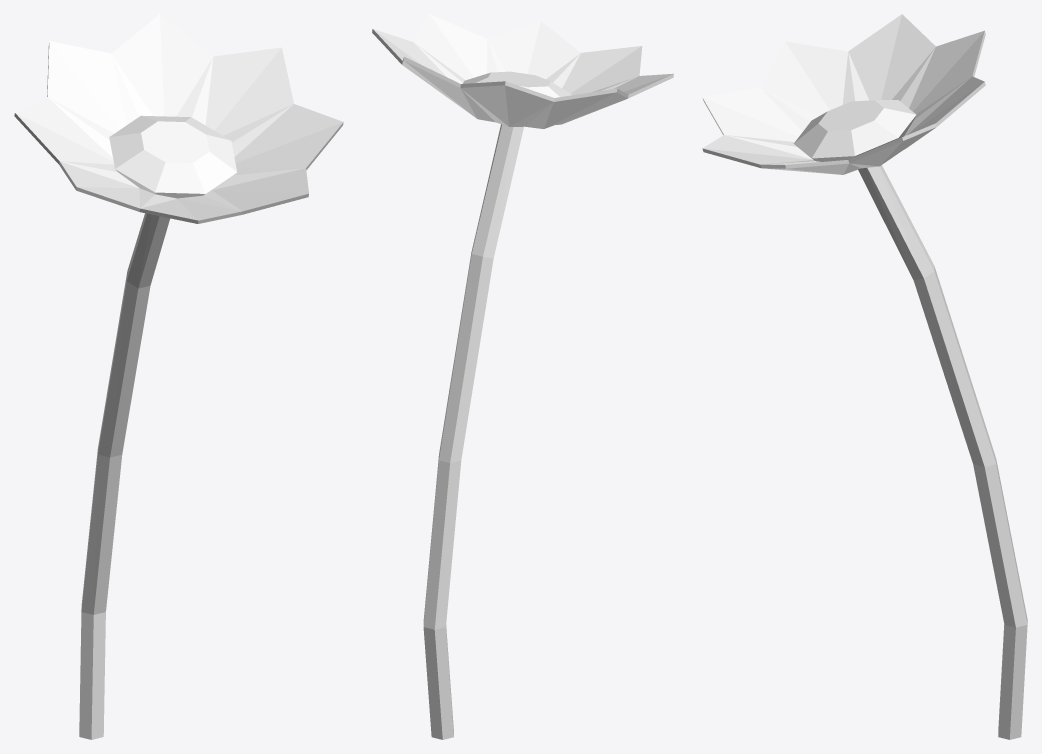
Rendered from Env_Flowers_05.glb.
The picture shows the model from 3 angles, left to right: view 1: azimuth 30°, elevation 25°; view 2: azimuth 150°, elevation 25°; view 3: azimuth 270°, elevation 25°; orthographic projection. The views are drawn at different scales.
Visible parts, largest first — view 1: Env_Flowers_05; view 2: Env_Flowers_05; view 3: Env_Flowers_05.
Part boxes in pixels (x1,y1,x2,y2): Env_Flowers_05: (14,14,343,739); Env_Flowers_05: (372,14,673,739); Env_Flowers_05: (702,14,1027,739).
Size of the model in its own units: 0.1996 by 0.5118 by 0.2224.
1 material, 1 textured.
